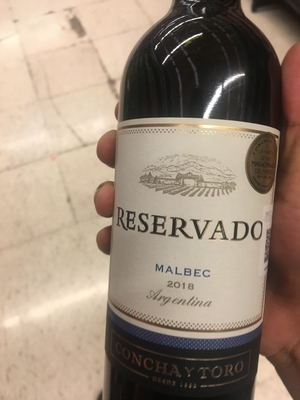reservado malbec: (111, 12, 283, 400)
